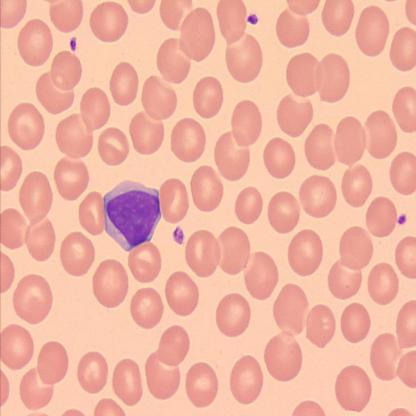Lymphocyte: (104, 180, 163, 252)
